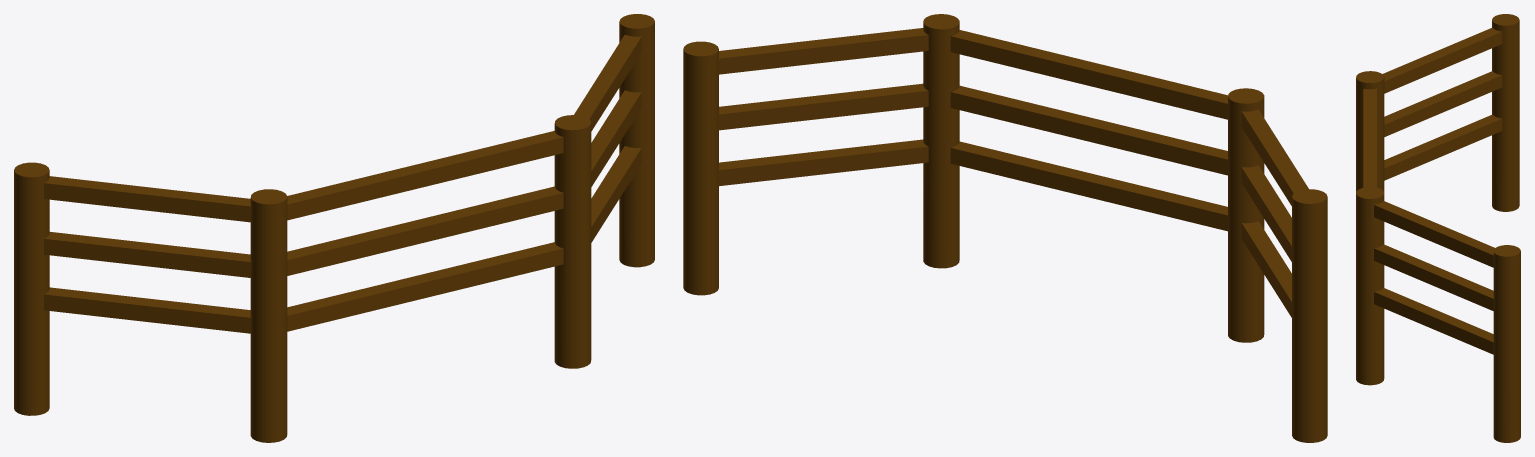
The model's file is Fence4x1.fbx.
3 renders of one model, left to right at view 1: azimuth 30°, elevation 25°; view 2: azimuth 150°, elevation 25°; view 3: azimuth 270°, elevation 25°, orthographic. The views are drawn at different scales.
Parts seen in each view (by area): view 1: Wood_mat Mesh (1); view 2: Wood_mat Mesh (1); view 3: Wood_mat Mesh (1).
Part boxes in pixels (x1,y1,x2,y2): Wood_mat Mesh (1): (14,14,654,442); Wood_mat Mesh (1): (683,14,1327,442); Wood_mat Mesh (1): (1356,14,1520,442).
Size of the model in its own units: 4.19 by 1.5 by 1.2.
